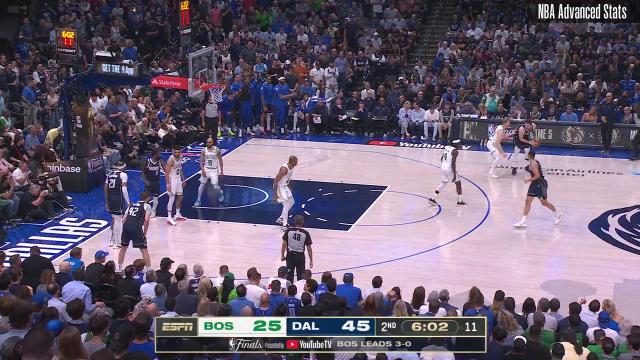3_dx: (241, 140, 249, 148)
b_dx: (249, 133, 259, 141)
free_adx: (384, 182, 396, 192)
free_asx: (341, 225, 353, 237)
free_bdx: (192, 166, 202, 178)
mid_dx: (508, 149, 516, 157)
referee: (279, 216, 313, 276), (202, 94, 222, 144)
team: (514, 152, 564, 228), (117, 192, 155, 276), (104, 160, 130, 248), (142, 148, 166, 219), (511, 117, 537, 173)
team1: (428, 137, 467, 207), (195, 139, 225, 207), (162, 148, 188, 226), (275, 155, 297, 231), (486, 118, 510, 178)
timer: (409, 319, 451, 337)
